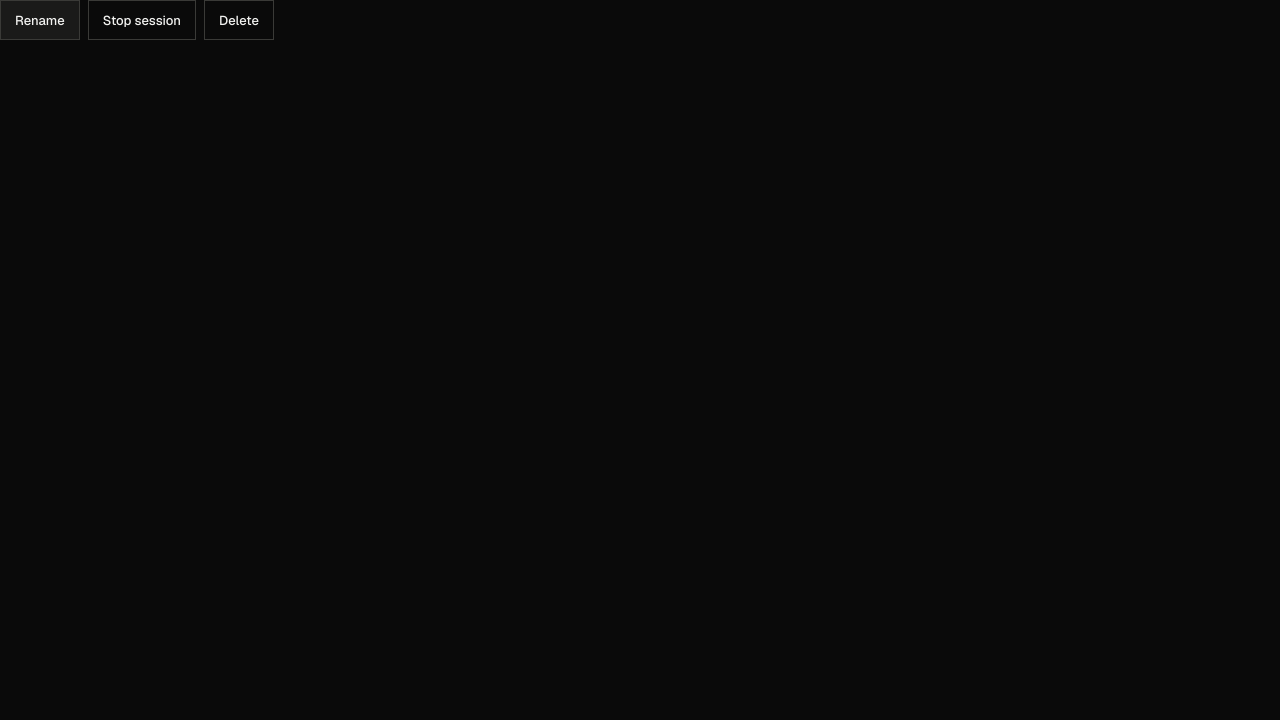
delete asks first and only deletes on confirm
Later steps or results of the test are not shown.
Click the button "Delete": {"x": 239, "y": 20} [204, 0, 274, 40]
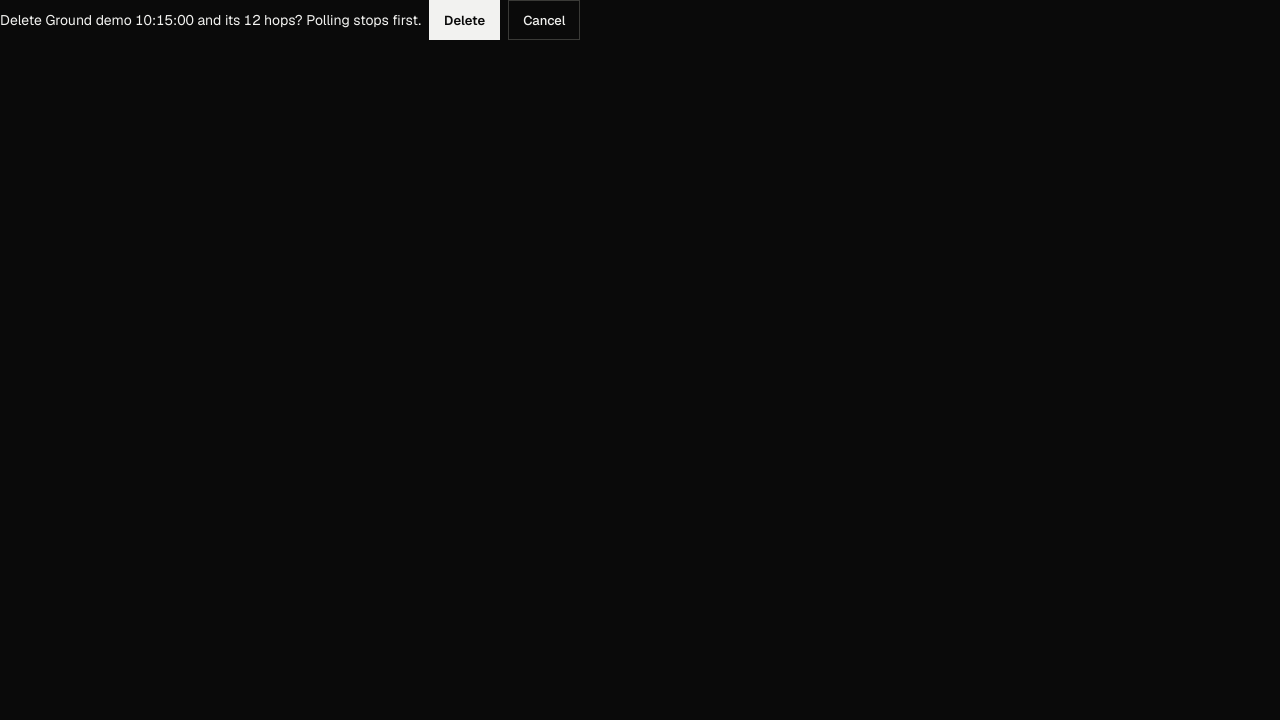
Result: the dialog shows "Delete Ground demo 10:15:00 and its 12 hops? Polling stops first." at [0, 0, 580, 40]
